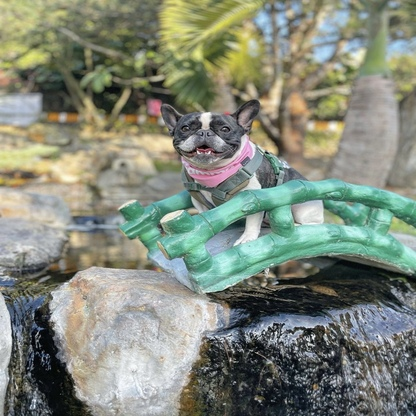bulldog: (159, 93, 331, 248)
